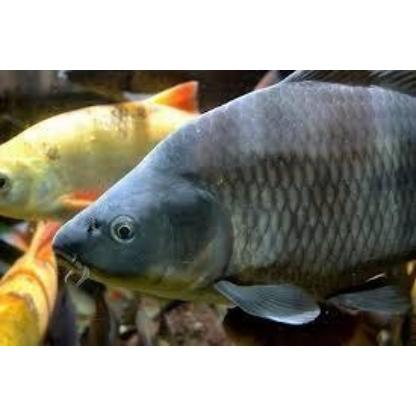ikan-mas: (49, 69, 415, 323)
